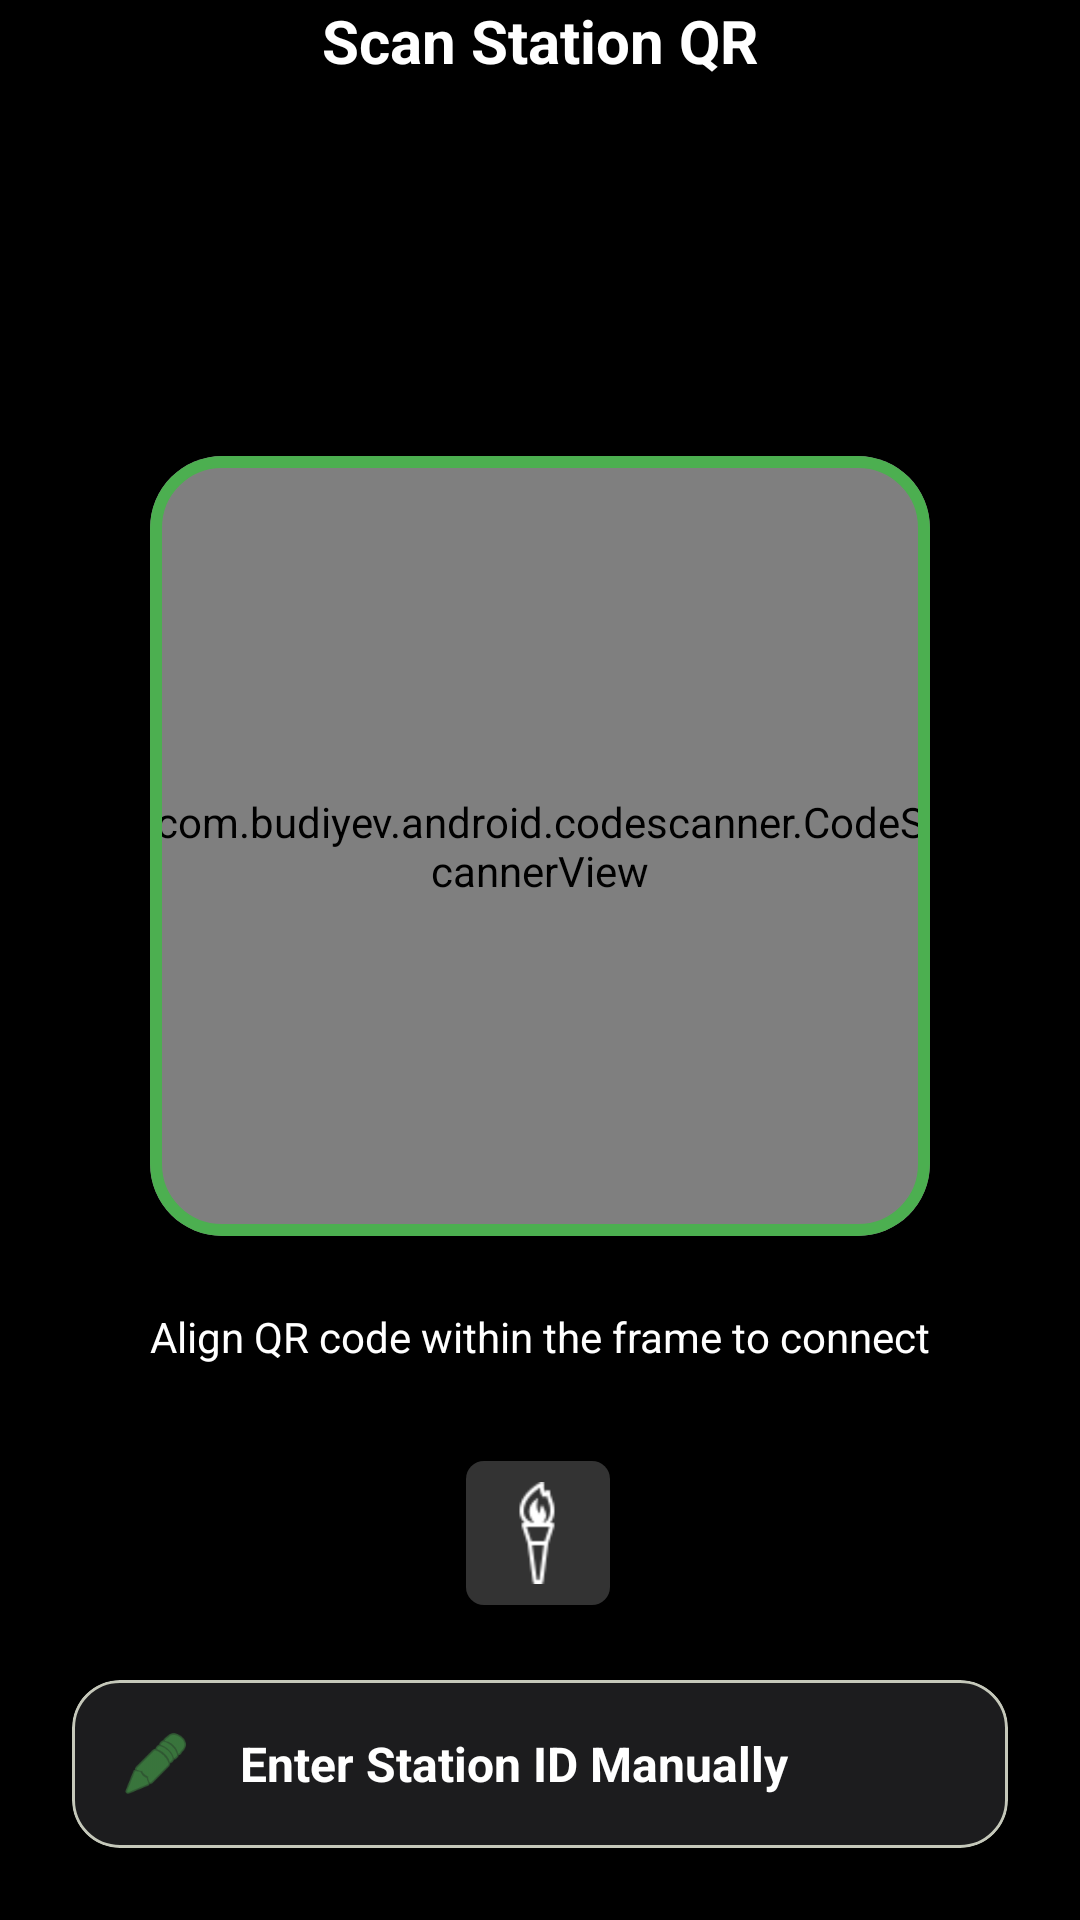

Named icons in this screenshot (1080px×1920px) and their centers, (x=x, y=y):
edit: (x=155, y=1763)
olympic torch: (x=538, y=1533)
